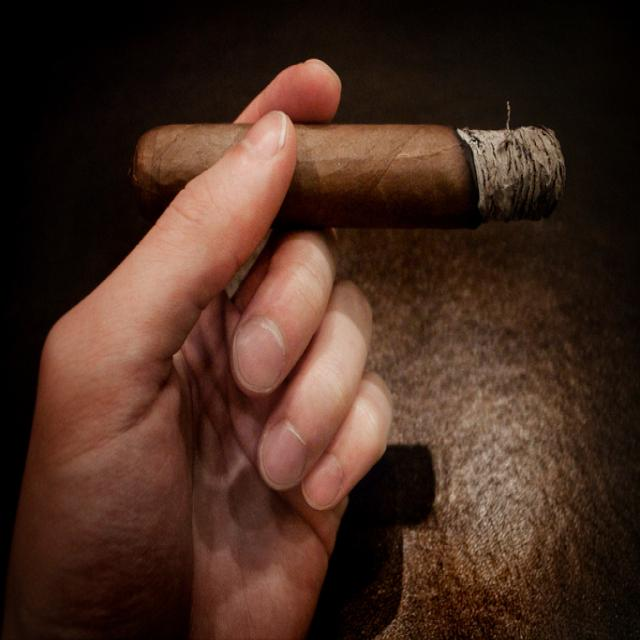Cigarette: (128, 128, 566, 226)
Hand: (3, 58, 406, 631)
